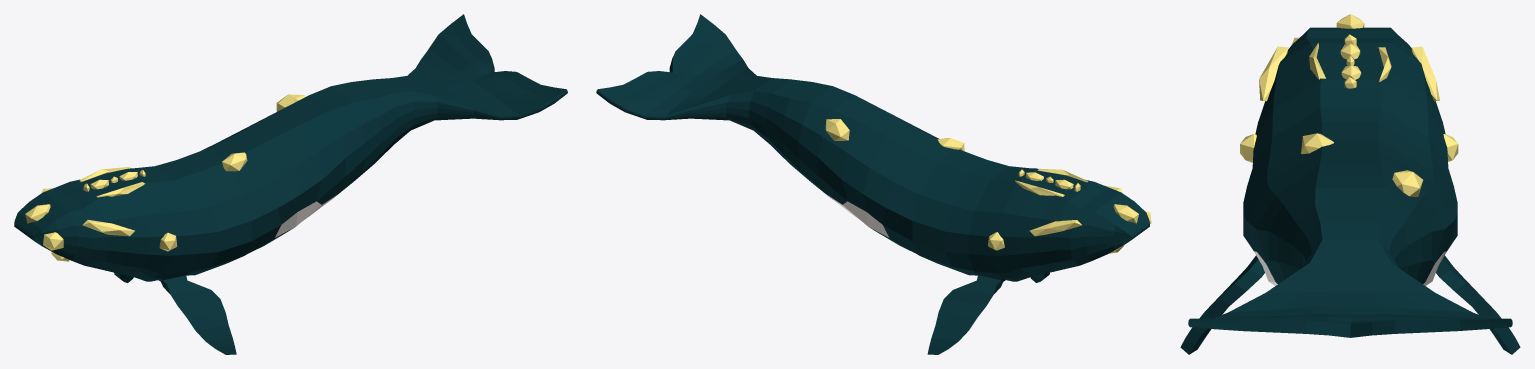
Rendered from ballena.fbx.
3 renders of one model, left to right at view 1: azimuth 30°, elevation 25°; view 2: azimuth 150°, elevation 25°; view 3: azimuth 270°, elevation 25°, orthographic. The views are drawn at different scales.
Parts seen in each view (by area): view 1: Plane.001, Icosphere.018, Icosphere.019; view 2: Plane.001, Icosphere.018, Icosphere.027; view 3: Plane.001, Icosphere.018, Icosphere.019, Icosphere.027, Icosphere.014, Icosphere.016, Icosphere.021, Icosphere.026.
Boxes of the visible parts, left/top/right/bottom form: Plane.001: left=14, top=14, right=567, bottom=354; Icosphere.018: left=119, top=94, right=304, bottom=180; Icosphere.019: left=82, top=220, right=134, bottom=236; Plane.001: left=596, top=14, right=1149, bottom=354; Icosphere.018: left=825, top=119, right=1043, bottom=180; Icosphere.027: left=1029, top=220, right=1081, bottom=236; Plane.001: left=1180, top=27, right=1520, bottom=354; Icosphere.018: left=1301, top=65, right=1422, bottom=196; Icosphere.019: left=1259, top=46, right=1288, bottom=101; Icosphere.027: left=1411, top=46, right=1439, bottom=101; Icosphere.014: left=1240, top=134, right=1256, bottom=162; Icosphere.016: left=1336, top=14, right=1364, bottom=28; Icosphere.021: left=1309, top=43, right=1325, bottom=79; Icosphere.026: left=1443, top=134, right=1458, bottom=161.
Bounding box in the file's own units: 326 × 117 × 125.
